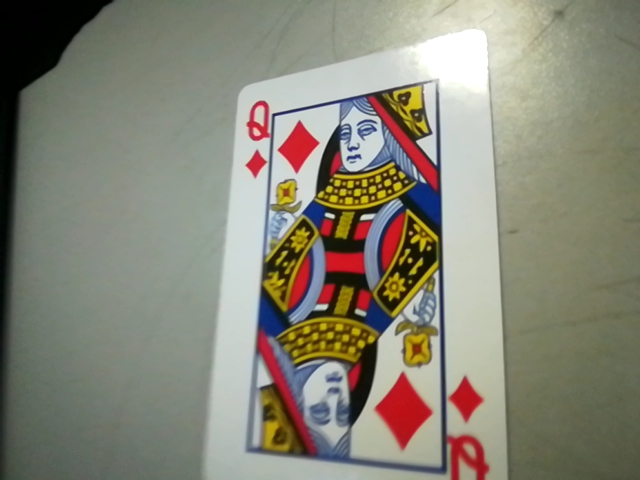fk q: (437, 371, 503, 480)
